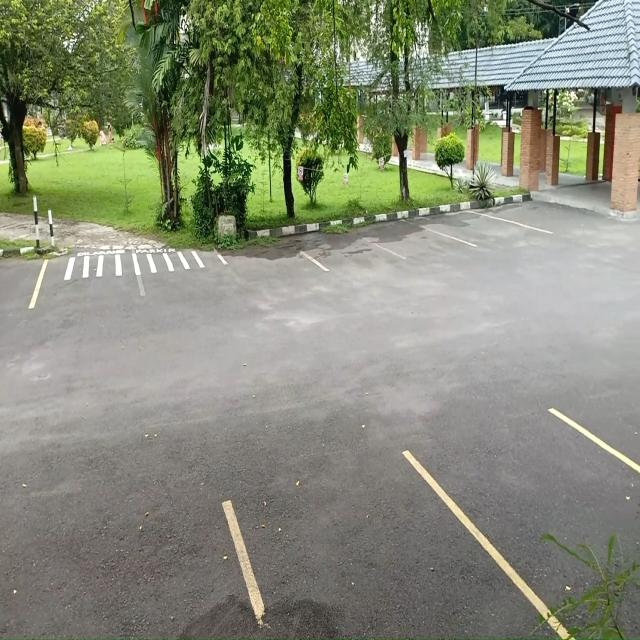empty: (245, 454, 508, 640), (494, 420, 640, 640), (298, 224, 373, 274), (374, 218, 444, 260), (442, 203, 502, 251)
